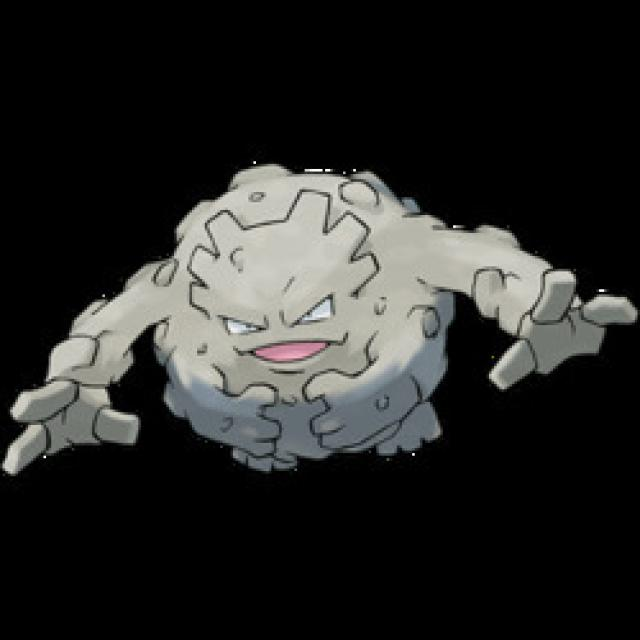Graveler: (5, 159, 630, 474)
